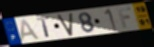1: (104, 8, 118, 31)
8: (78, 12, 96, 34)
A: (20, 18, 43, 43)
F: (117, 7, 133, 29)
T: (36, 16, 52, 39)
V: (56, 12, 74, 37)
